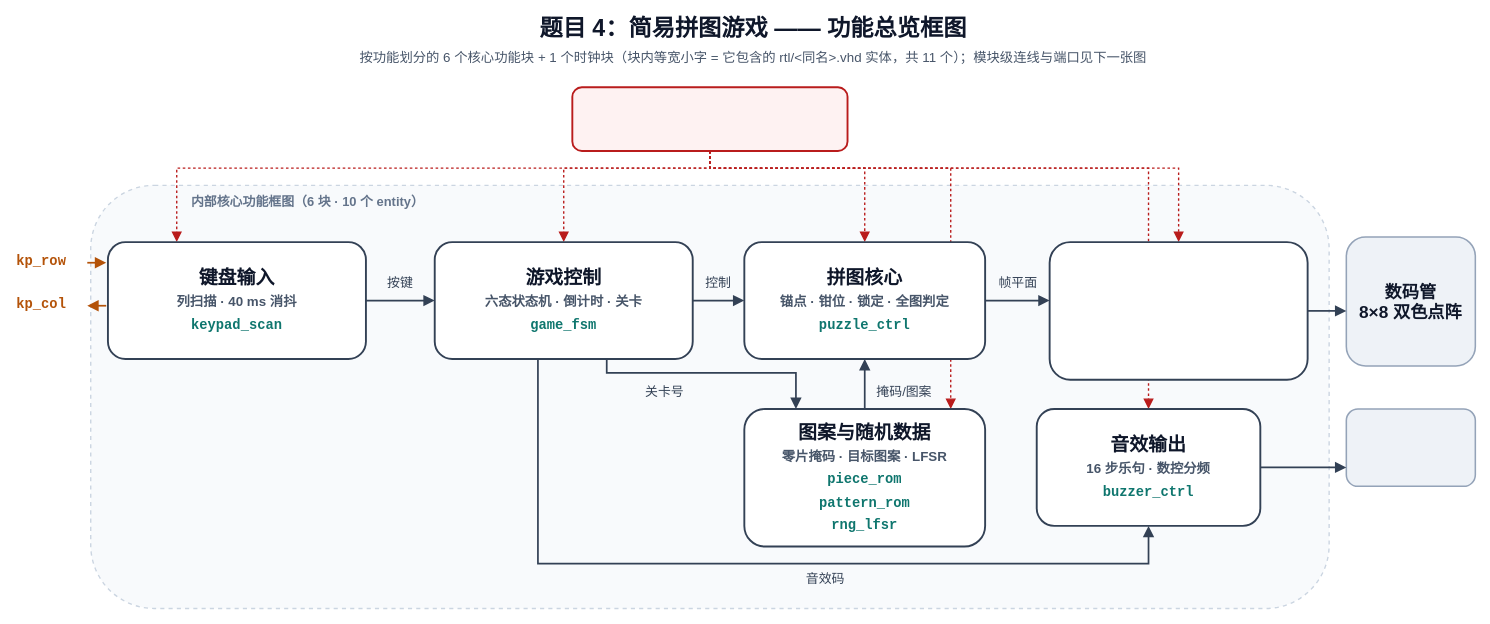
This 1490x624 diagram has some shape labels left out. Here are the shapes that lost their labels. From the top down, the centre of each, then its label:
At point 709,118: "时钟与节拍（clk_gen） 50 MHz 分频 → rst + 7 路单周期节拍".
At point 1178,310: "显示系统 段码 · 数码管扫描 · 点阵行扫描 disp_format seg_scan dot_matrix_scan".
At point 1410,447: "蜂鸣器".
